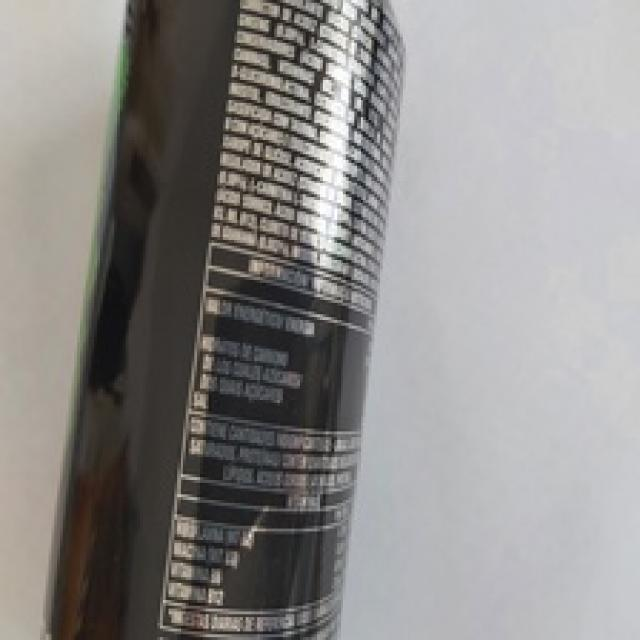Kaleng: (48, 0, 407, 638)
